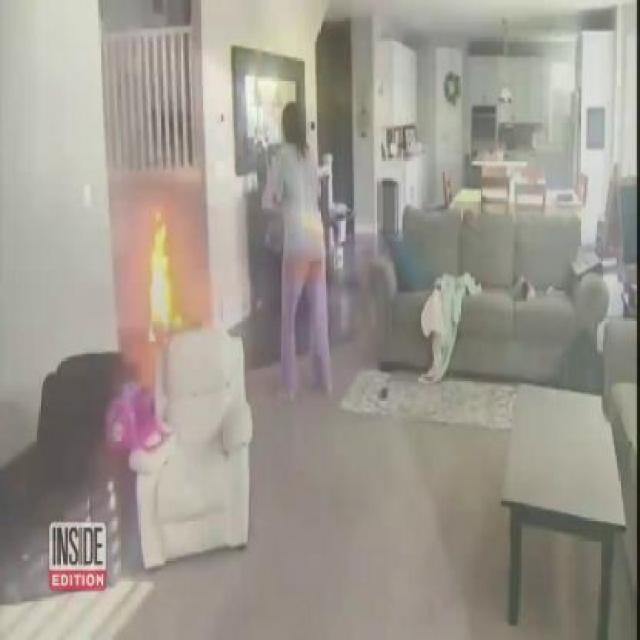fire: (144, 212, 184, 346)
